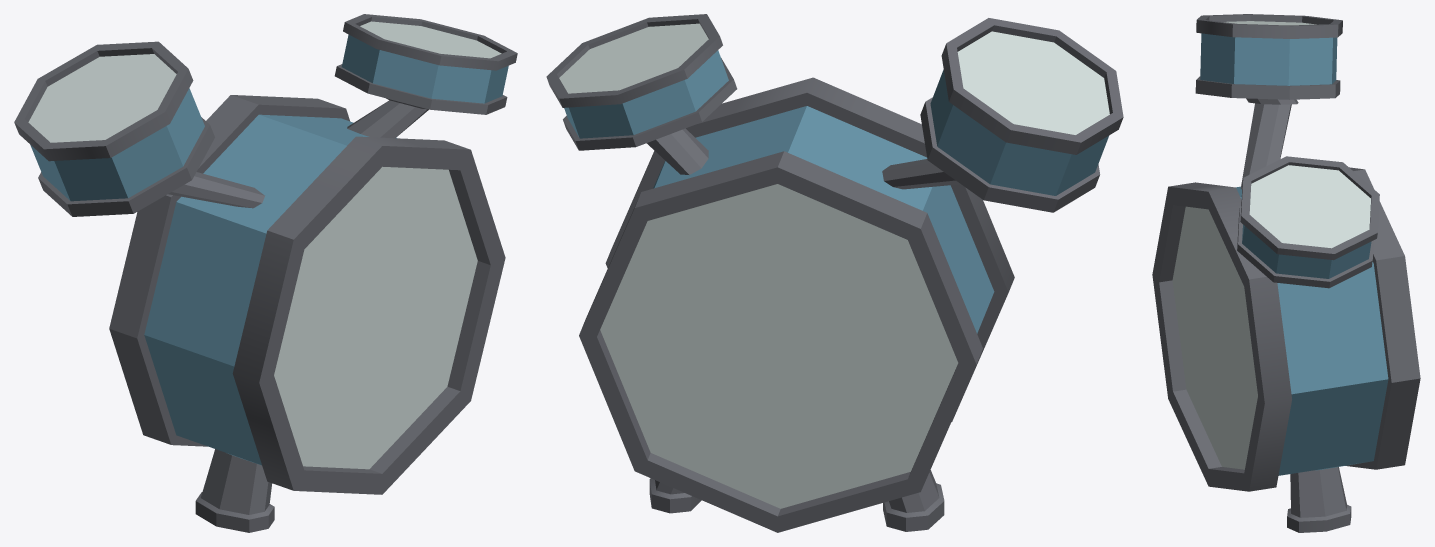
The model's file is DrumsetMiddle.fbx.
3 renders of one model, left to right at view 1: azimuth 30°, elevation 25°; view 2: azimuth 150°, elevation 25°; view 3: azimuth 270°, elevation 25°, orthographic. The views are drawn at different scales.
Parts seen in each view (by area): view 1: MiddleDrum; view 2: MiddleDrum; view 3: MiddleDrum.
Part boxes in pixels (x1,y1,x2,y2): MiddleDrum: (14,14,517,532); MiddleDrum: (546,14,1123,532); MiddleDrum: (1152,14,1420,532).
Size of the model in its own units: 83.92 by 77.31 by 46.9.
